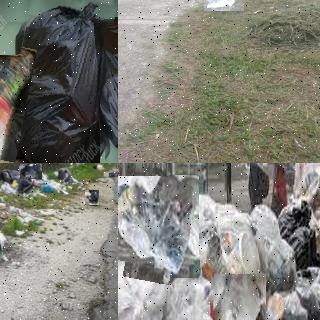Garbage: (6, 0, 109, 163), (118, 175, 199, 278), (248, 201, 300, 294), (0, 54, 31, 163), (96, 15, 118, 163), (118, 260, 165, 320), (212, 273, 267, 320), (152, 304, 231, 320), (0, 167, 32, 191), (204, 0, 243, 11), (20, 164, 42, 179), (85, 190, 99, 205)
